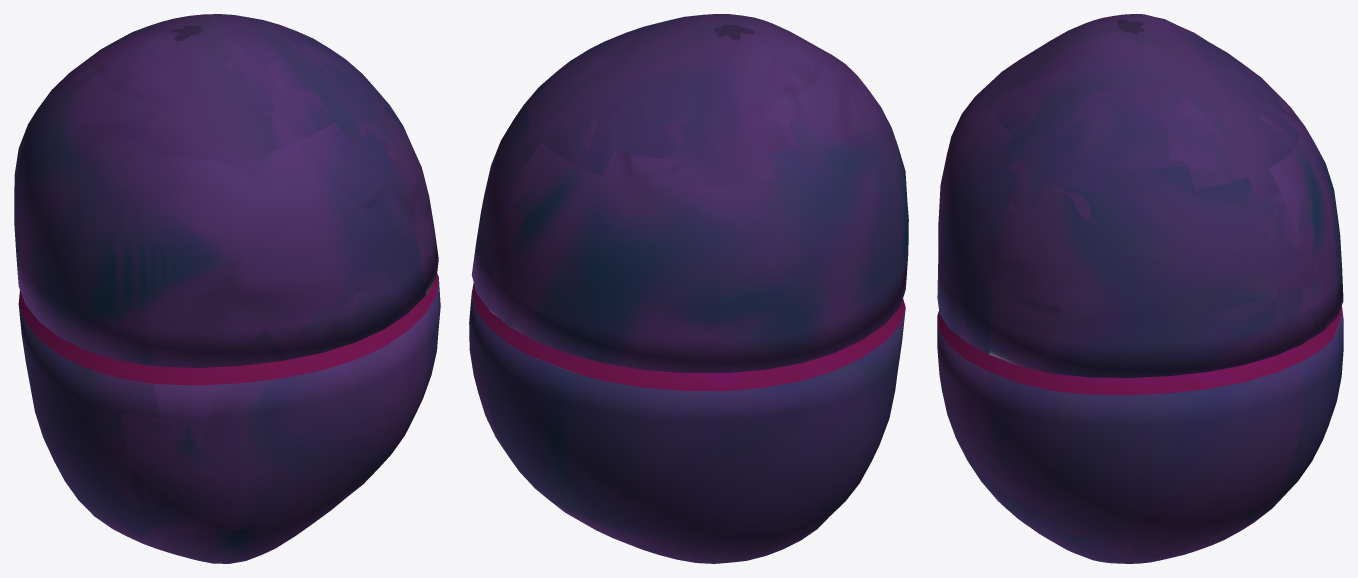
The model's file is SingularGrapeSliced.fbx.
3 views of the same model, side by side, from view 1: azimuth 30°, elevation 25°; view 2: azimuth 150°, elevation 25°; view 3: azimuth 270°, elevation 25° (orthographic). The views are drawn at different scales.
Visible parts, largest first — view 1: Top, Bottom; view 2: Top, Bottom; view 3: Top, Bottom.
Boxes of the visible parts, <box> form: Top: <box>14,14,438,367</box>; Bottom: <box>18,274,440,563</box>; Top: <box>471,14,908,372</box>; Bottom: <box>469,283,905,563</box>; Top: <box>937,14,1343,377</box>; Bottom: <box>937,305,1343,563</box>.
Size of the model in its own units: 102 by 138 by 99.
